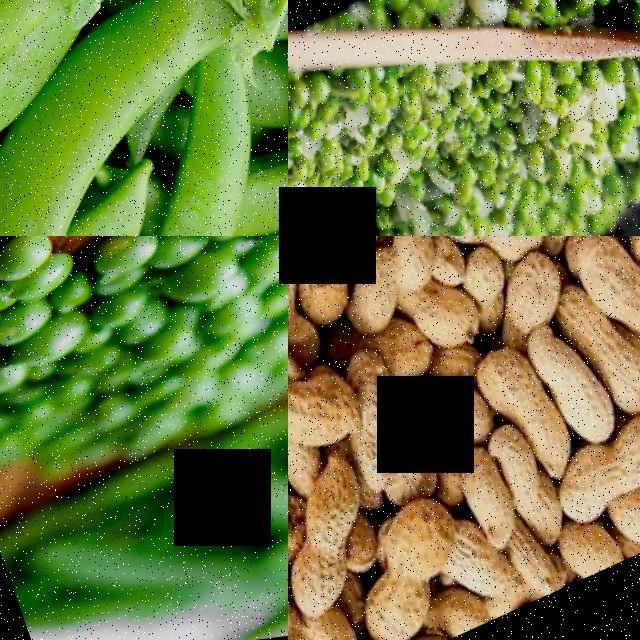peanuts: (489, 424, 569, 569), (367, 496, 466, 612), (398, 373, 493, 481), (537, 348, 620, 471), (288, 350, 368, 476), (569, 236, 640, 373), (288, 450, 374, 562), (548, 435, 640, 539), (449, 449, 524, 572), (330, 250, 412, 352), (468, 348, 547, 448), (495, 253, 573, 351), (297, 236, 391, 282), (429, 236, 506, 275)
peas: (0, 236, 288, 424), (385, 65, 571, 236), (288, 75, 414, 236)
